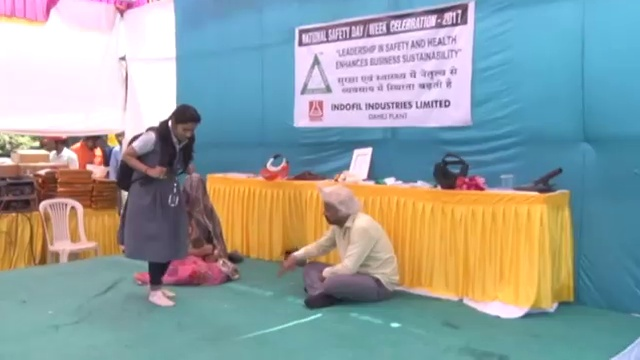helmet_off: (318, 186, 352, 227), (169, 105, 200, 143), (180, 173, 211, 205)
person: (123, 105, 200, 310), (278, 185, 399, 308), (176, 170, 240, 287), (67, 133, 103, 179), (42, 133, 79, 173), (108, 130, 126, 182)
